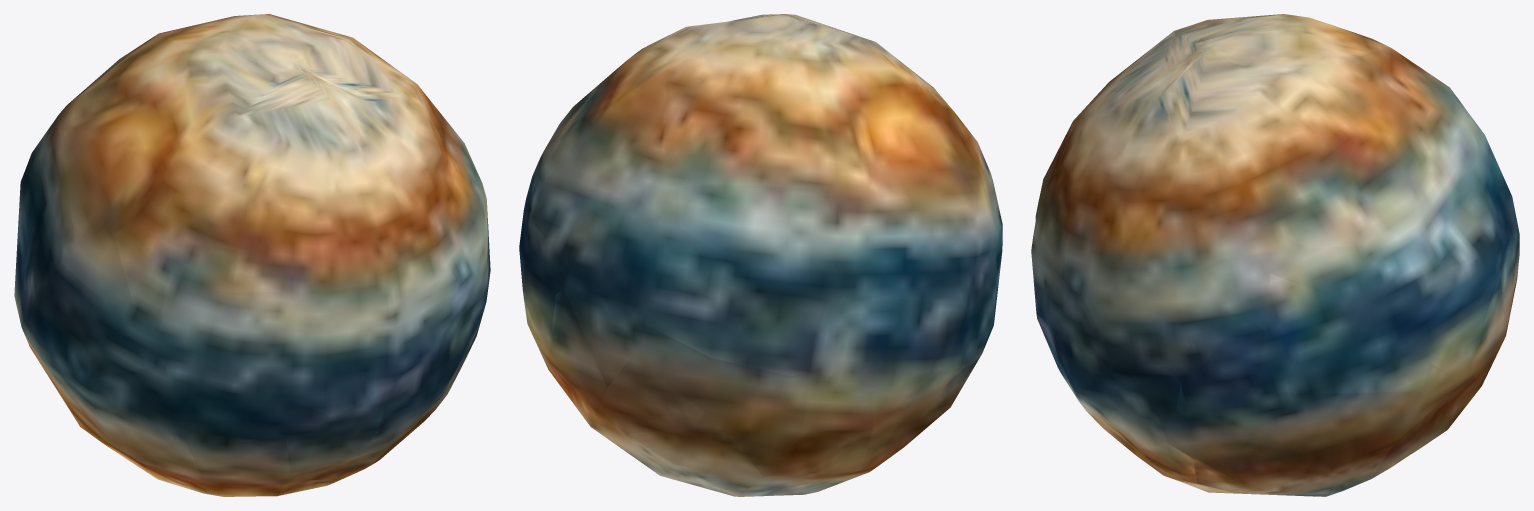
File: planet_3-far.glb
The picture shows the model from 3 angles, left to right: view 1: azimuth 30°, elevation 25°; view 2: azimuth 150°, elevation 25°; view 3: azimuth 270°, elevation 25°; orthographic projection.
Visible parts, largest first — view 1: Mesh_0.001; view 2: Mesh_0.001; view 3: Mesh_0.001.
Boxes of the visible parts, <box> form: Mesh_0.001: <box>14,14,490,496</box>; Mesh_0.001: <box>519,14,1002,496</box>; Mesh_0.001: <box>1031,14,1519,496</box>.
Size of the model in its own units: 1.89 by 1.9 by 1.89.
Materials: 1 (1 with a texture image).
